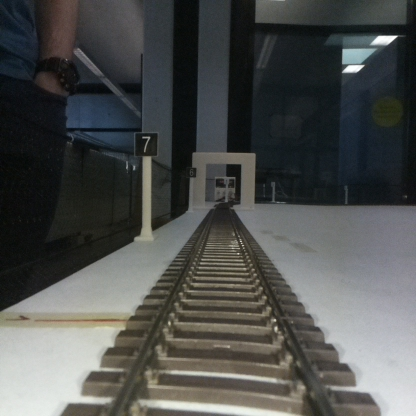black-info-6: (186, 166, 196, 212)
black-info-7: (134, 132, 158, 240)
